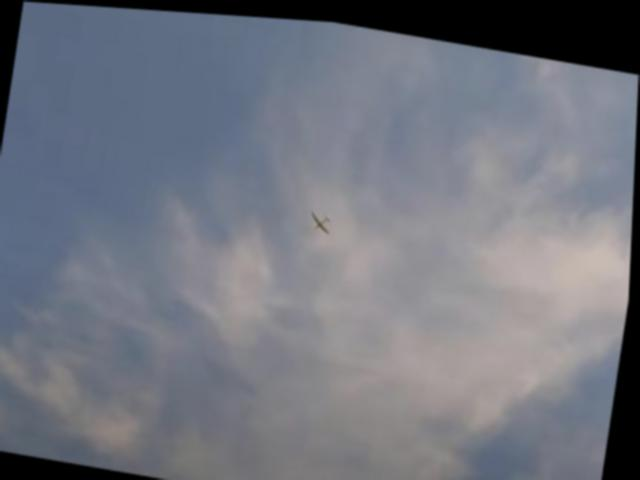iha: (311, 206, 339, 231)
